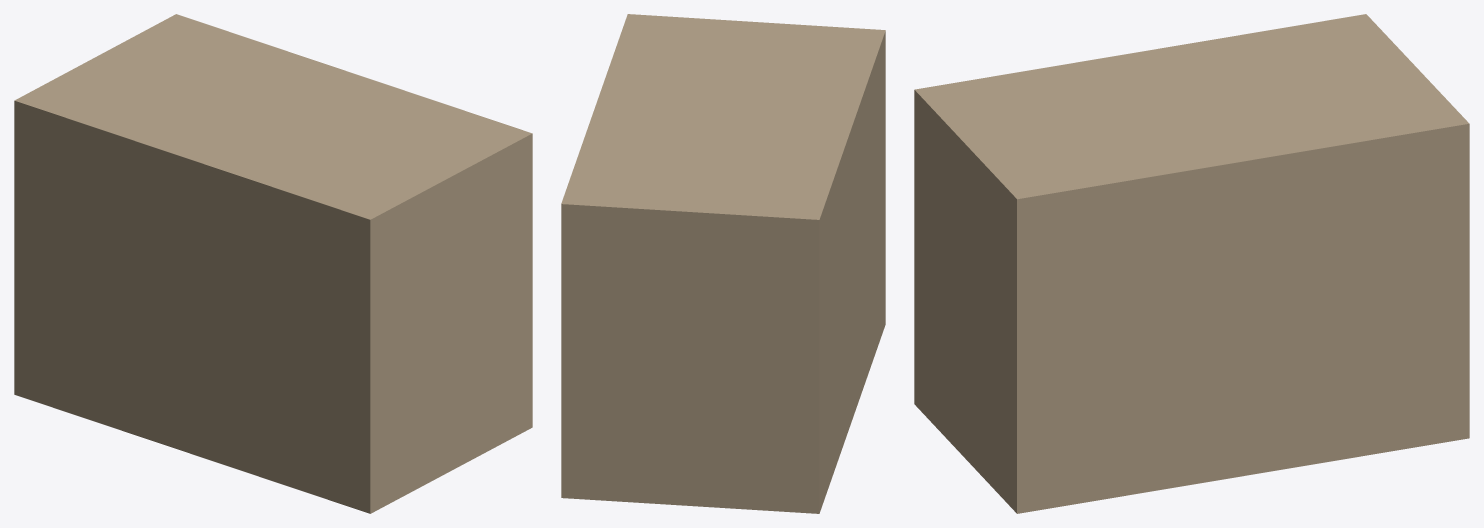
File: bld_106415189.dae
3 views of the same model, side by side, from view 1: azimuth 30°, elevation 25°; view 2: azimuth 150°, elevation 25°; view 3: azimuth 270°, elevation 25° (orthographic). The views are drawn at different scales.
Parts seen in each view (by area): view 1: bld_106415189; view 2: bld_106415189; view 3: bld_106415189.
Part boxes in pixels (box(x1,y1,x2,y2)): bld_106415189: box(14, 14, 532, 513); bld_106415189: box(561, 14, 885, 513); bld_106415189: box(914, 14, 1469, 513).
Bounding box in the file's own units: 10.1 × 12.79 × 8.
